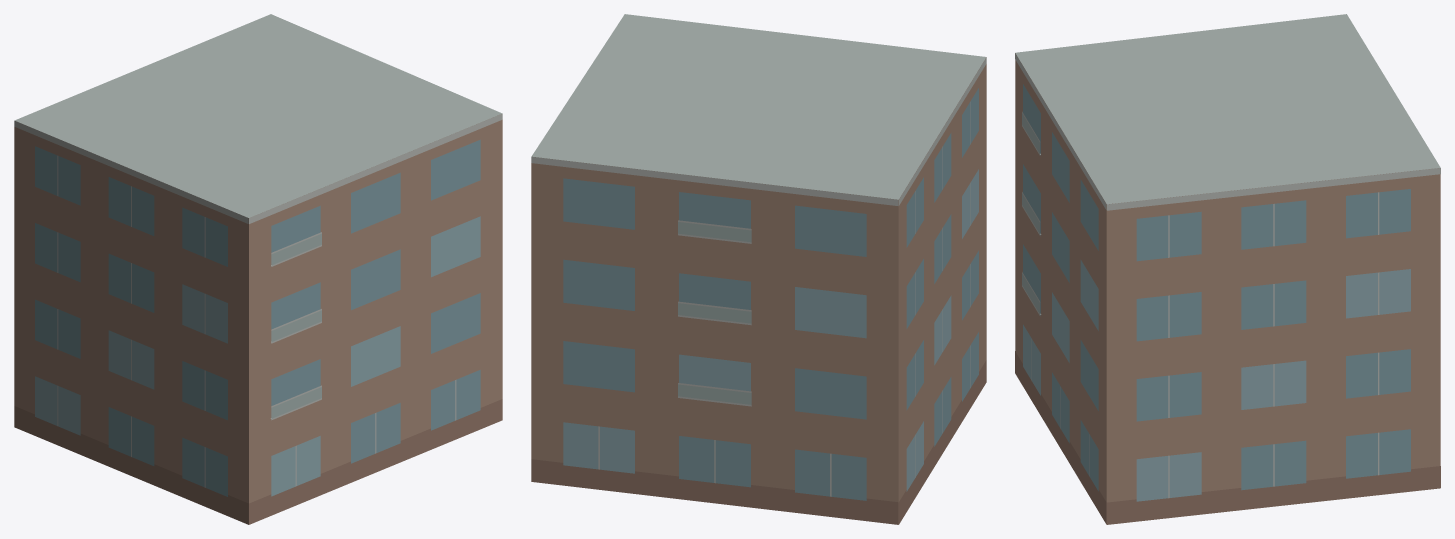
The model's file is survey-upis-32932914.glb.
3 views of the same model, side by side, from view 1: azimuth 30°, elevation 25°; view 2: azimuth 150°, elevation 25°; view 3: azimuth 270°, elevation 25° (orthographic). The views are drawn at different scales.
Parts seen in each view (by area): view 1: survey-upis-32932914.tmp; view 2: survey-upis-32932914.tmp; view 3: survey-upis-32932914.tmp.
Part boxes in pixels (bbox=[...]): survey-upis-32932914.tmp: bbox=[14, 14, 502, 524]; survey-upis-32932914.tmp: bbox=[531, 14, 986, 524]; survey-upis-32932914.tmp: bbox=[1015, 14, 1440, 524].
Bounding box in the file's own units: 15.55 × 12.2 × 14.69.
